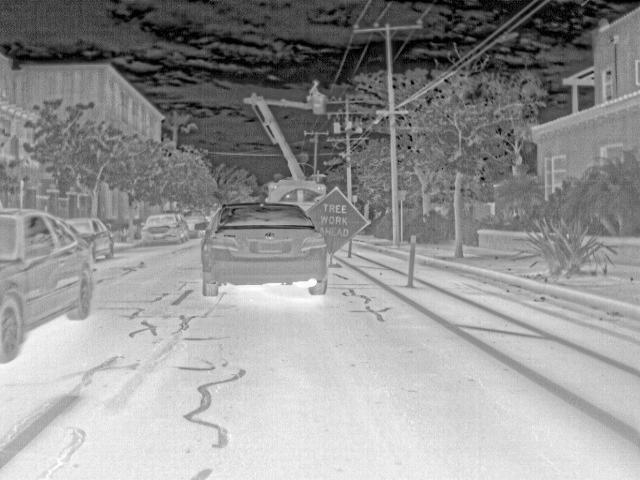car: (0, 205, 93, 363), (200, 202, 331, 296), (142, 212, 189, 246), (84, 214, 113, 258), (185, 214, 206, 236)
person: (308, 77, 323, 94)
